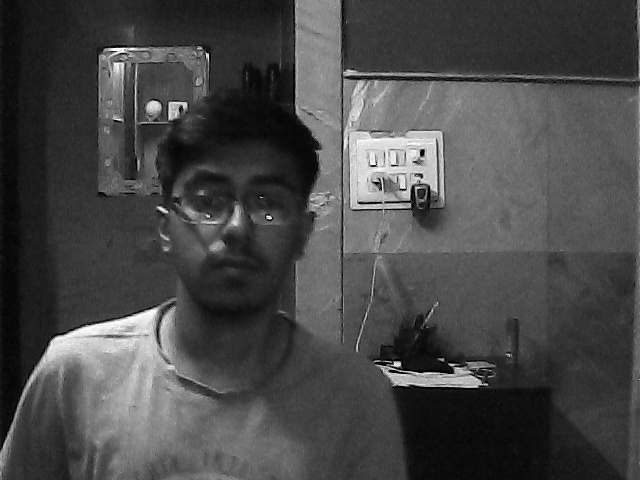nomask: (165, 139, 312, 317)
